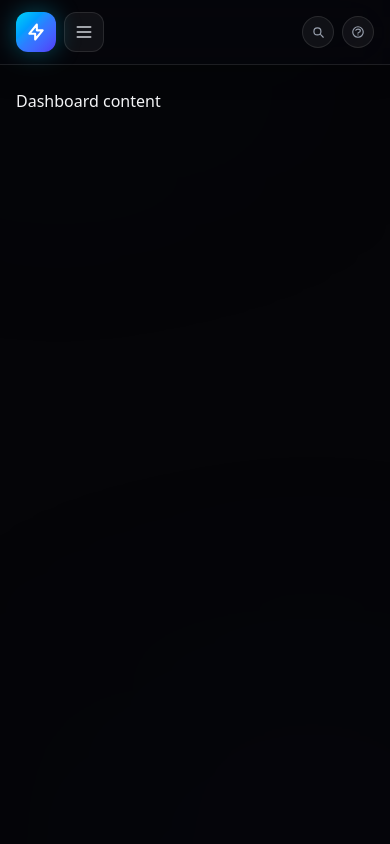
Test: AppShell mobile navigation › opens and closes the keyboard shortcuts modal via header button and Escape
This screenshot has width=390, height=844.
Click the button with test id "shortcuts-modal-trigger" at (358, 32), box x1=342 y1=16 x2=374 y2=48
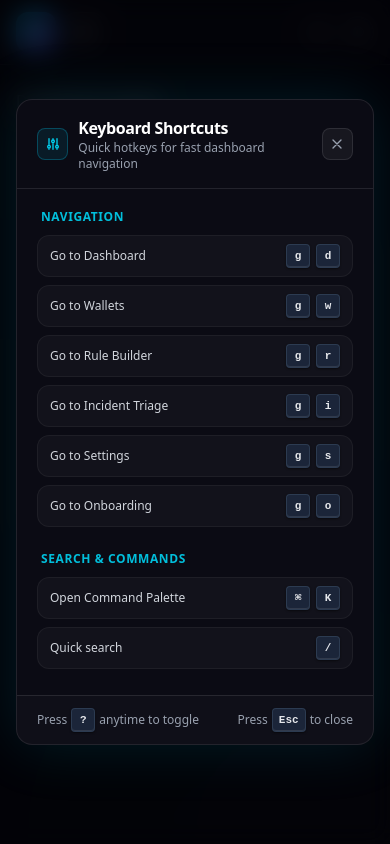
Expected: the dialog with test id "shortcuts-modal" is shown
Press Escape
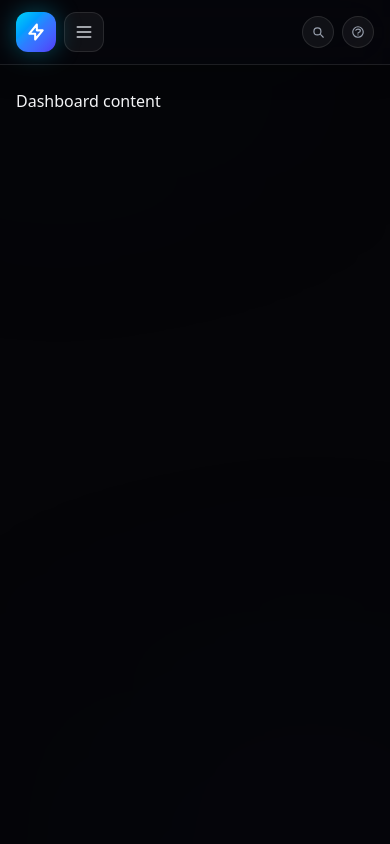
Expected: the dialog with test id "shortcuts-modal" is gone
